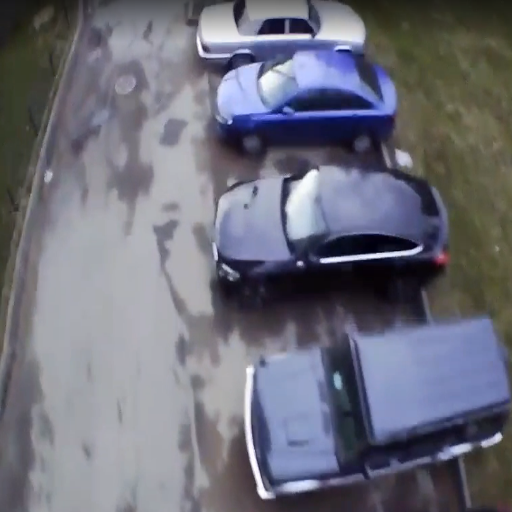Car: (235, 314, 512, 507), (211, 169, 446, 288), (215, 47, 397, 150), (193, 2, 367, 62)
